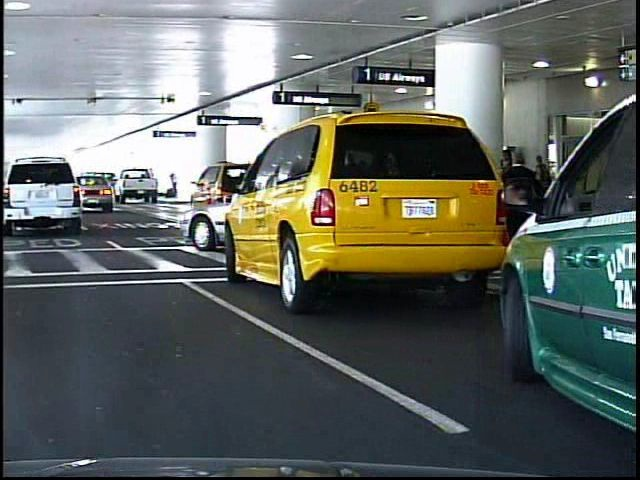person: (496, 149, 538, 286), (167, 169, 175, 199)
